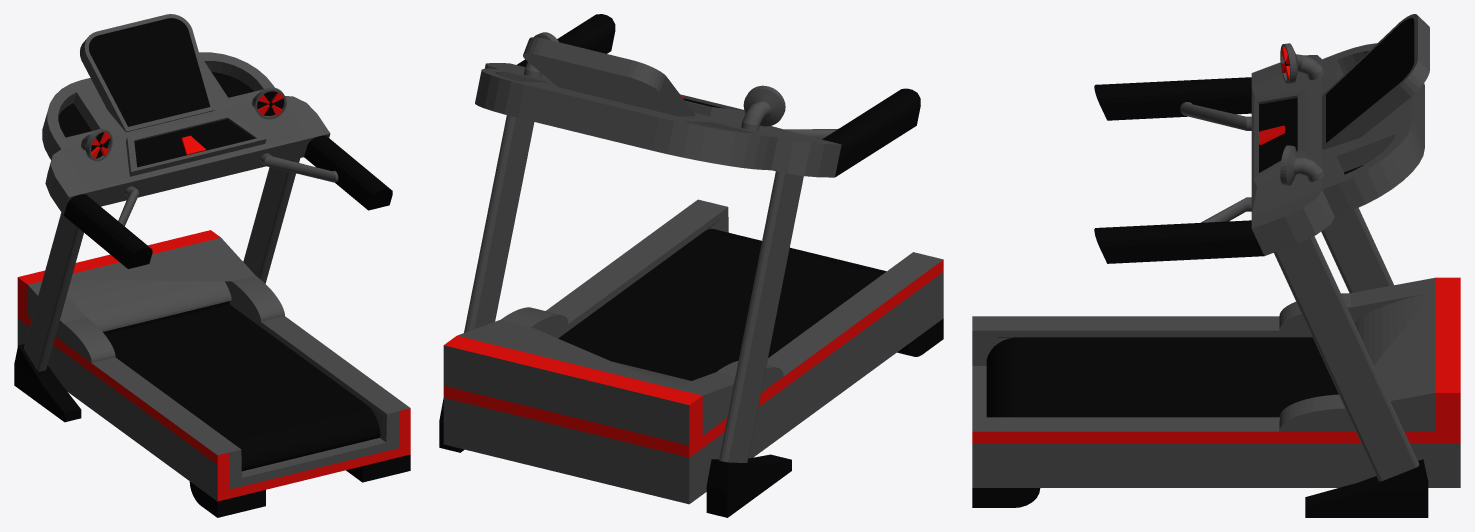
The model's file is Treadmill Ver1 Lv2.fbx.
The picture shows the model from 3 angles, left to right: view 1: azimuth 30°, elevation 25°; view 2: azimuth 150°, elevation 25°; view 3: azimuth 270°, elevation 25°; orthographic projection. The views are drawn at different scales.
Parts seen in each view (by area): view 1: Treadmill 1 Lv2; view 2: Treadmill 1 Lv2; view 3: Treadmill 1 Lv2.
Boxes of the visible parts, x1,y1,x2,y2 form: Treadmill 1 Lv2: (14, 14, 410, 517); Treadmill 1 Lv2: (439, 14, 943, 517); Treadmill 1 Lv2: (972, 14, 1460, 517).
Size of the model in its own units: 271 by 334 by 358.
